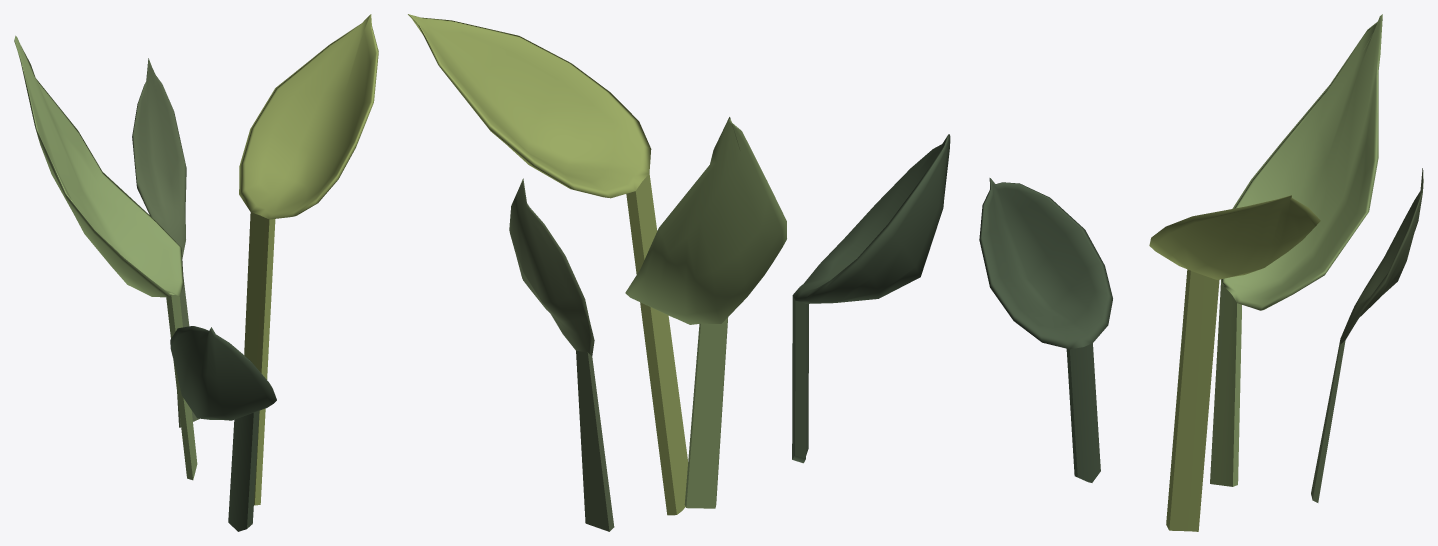
The model's file is Water Weed A.fbx.
The picture shows the model from 3 angles, left to right: view 1: azimuth 30°, elevation 25°; view 2: azimuth 150°, elevation 25°; view 3: azimuth 270°, elevation 25°; orthographic projection. The views are drawn at different scales.
Visible parts, largest first — view 1: Water_Weed_A; view 2: Water_Weed_A; view 3: Water_Weed_A.
Part boxes in pixels (<box>): Water_Weed_A: <box>14,14,378,531</box>; Water_Weed_A: <box>408,14,950,531</box>; Water_Weed_A: <box>979,14,1423,531</box>.
Size of the model in its own units: 17.63 by 22.84 by 20.58.
